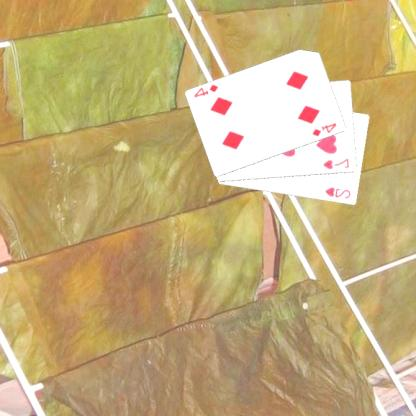2H: (324, 184, 354, 200)
4D: (311, 120, 340, 138), (193, 81, 222, 99)
7H: (322, 156, 352, 171)
